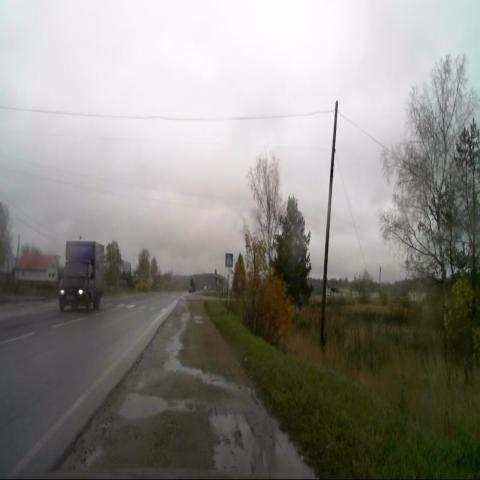5_19_1: (225, 253, 233, 267)
